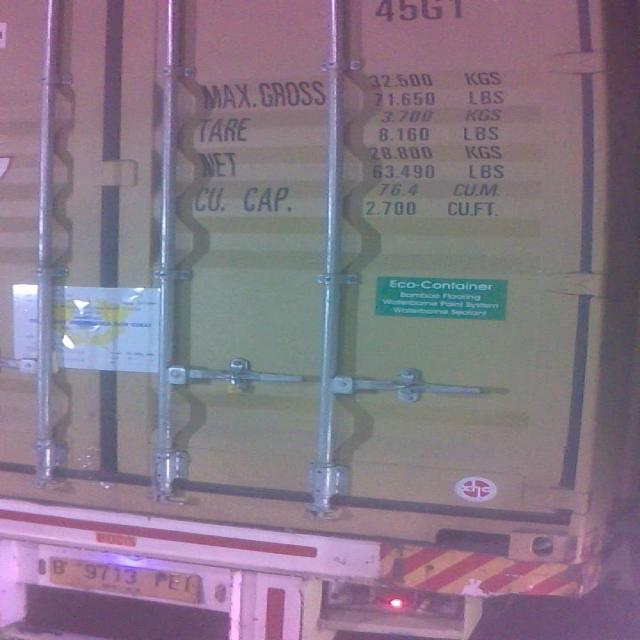seal: (222, 364, 249, 399)
